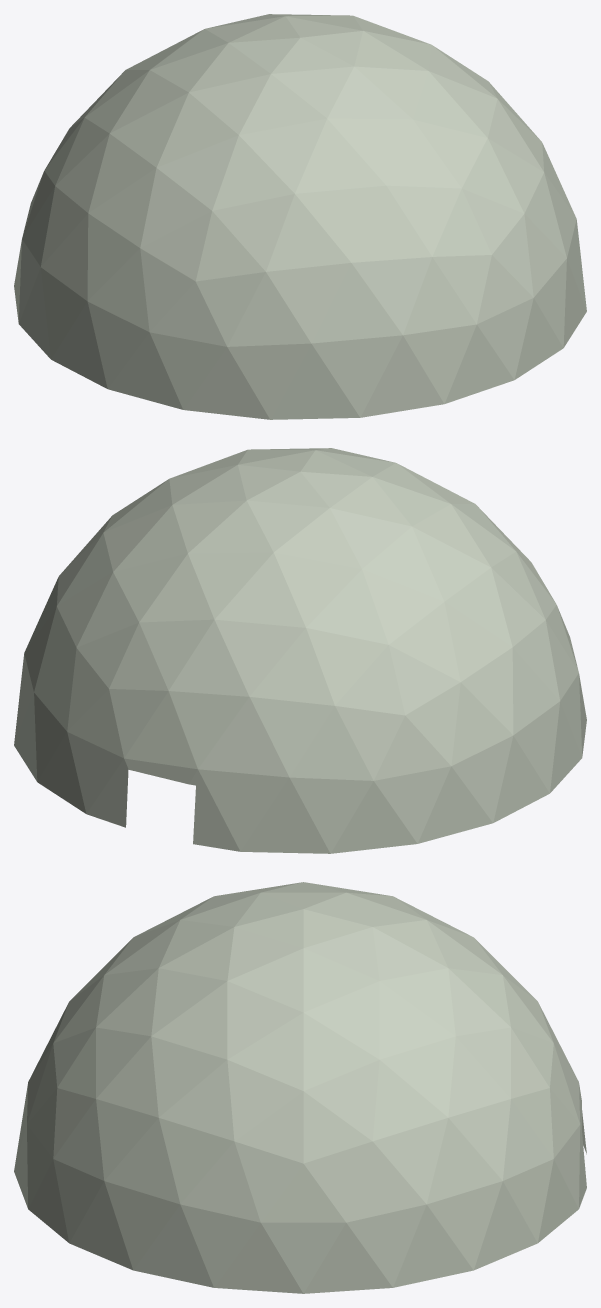
The model's file is SM_MP_Flow_DomeSeal.fbx.
3 views of the same model, one above another, from view 1: azimuth 30°, elevation 25°; view 2: azimuth 150°, elevation 25°; view 3: azimuth 270°, elevation 25° (orthographic).
Visible parts, largest first — view 1: SM_MP_Flow_DomeSeal; view 2: SM_MP_Flow_DomeSeal; view 3: SM_MP_Flow_DomeSeal.
Boxes of the visible parts, x1,y1,x2,y2 form: SM_MP_Flow_DomeSeal: (14,14,586,419); SM_MP_Flow_DomeSeal: (14,448,586,853); SM_MP_Flow_DomeSeal: (14,882,586,1293).
Size of the model in its own units: 3800 by 3760 by 1900.
Materials: 1 (1 with a texture image).
